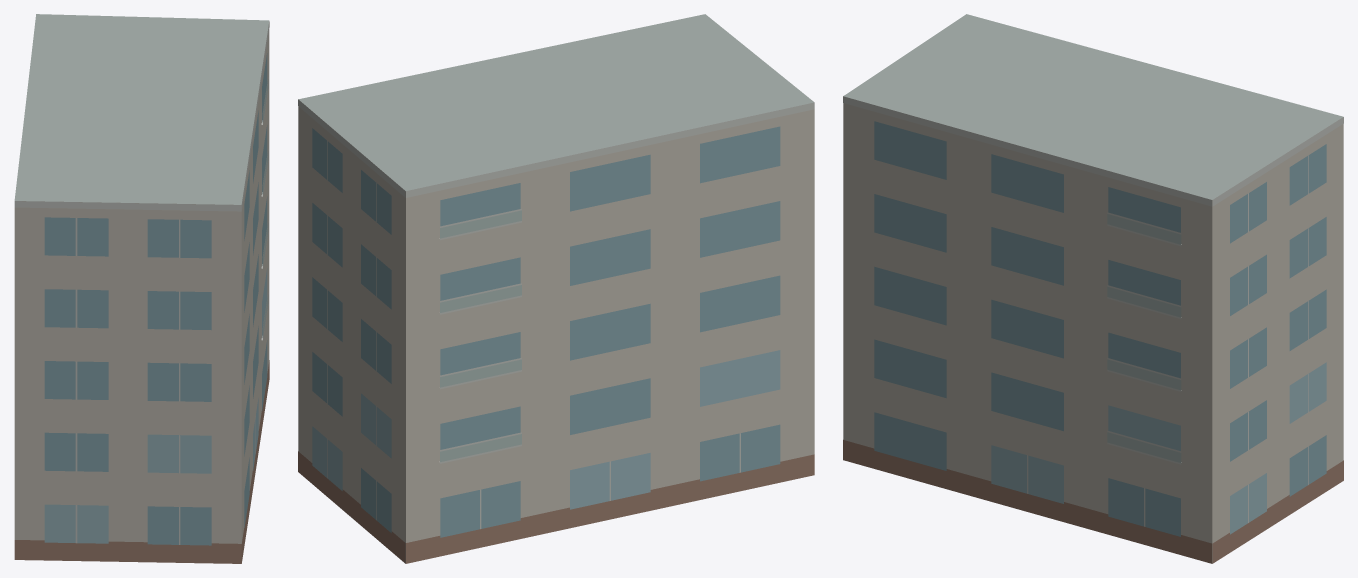
The model's file is survey-upis-32893490.glb.
3 renders of one model, left to right at view 1: azimuth 30°, elevation 25°; view 2: azimuth 150°, elevation 25°; view 3: azimuth 270°, elevation 25°, orthographic. The views are drawn at different scales.
Visible parts, largest first — view 1: survey-upis-32893490.tmp; view 2: survey-upis-32893490.tmp; view 3: survey-upis-32893490.tmp.
Boxes of the visible parts, x1,y1,x2,y2 form: survey-upis-32893490.tmp: (14,14,269,563); survey-upis-32893490.tmp: (298,14,814,563); survey-upis-32893490.tmp: (843,14,1343,563).
Bounding box in the file's own units: 14.48 × 13.2 × 16.47.
